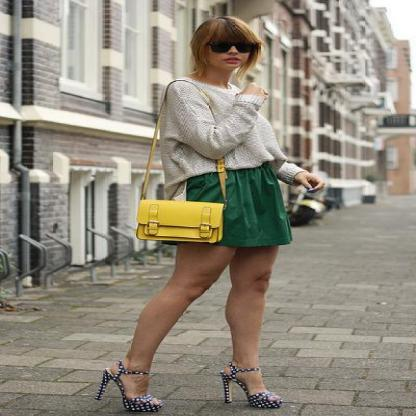bag: (118, 163, 230, 242)
jacket: (138, 77, 296, 200)
shoe: (99, 369, 281, 409)
skirt: (178, 161, 293, 247)
sunglass: (213, 28, 258, 58)
